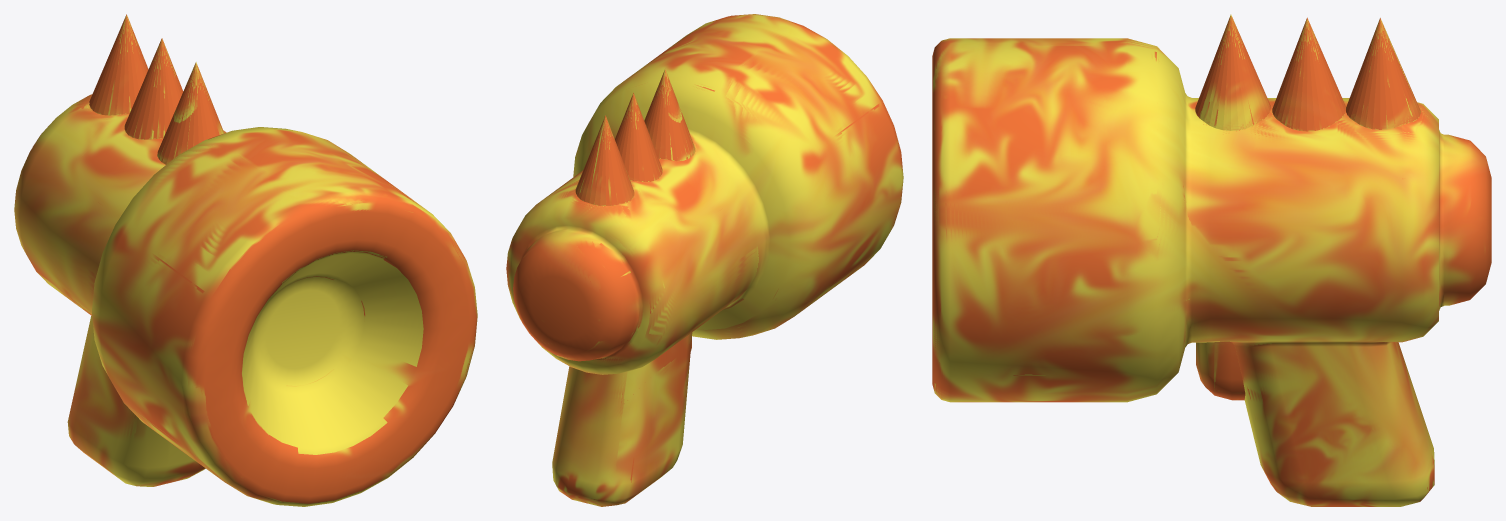
The model's file is war_gun_model.glb.
The picture shows the model from 3 angles, left to right: view 1: azimuth 30°, elevation 25°; view 2: azimuth 150°, elevation 25°; view 3: azimuth 270°, elevation 25°; orthographic projection. The views are drawn at different scales.
Parts seen in each view (by area): view 1: gun_model_red; view 2: gun_model_red; view 3: gun_model_red.
Boxes of the visible parts, x1,y1,x2,y2 form: gun_model_red: [14, 14, 477, 506]; gun_model_red: [506, 14, 903, 506]; gun_model_red: [932, 14, 1491, 506].
Size of the model in its own units: 0.614 by 0.8908 by 0.942.
Materials: 1 (1 with a texture image).
